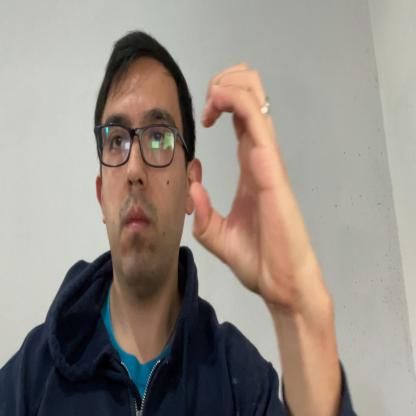C: (190, 60, 304, 309)
